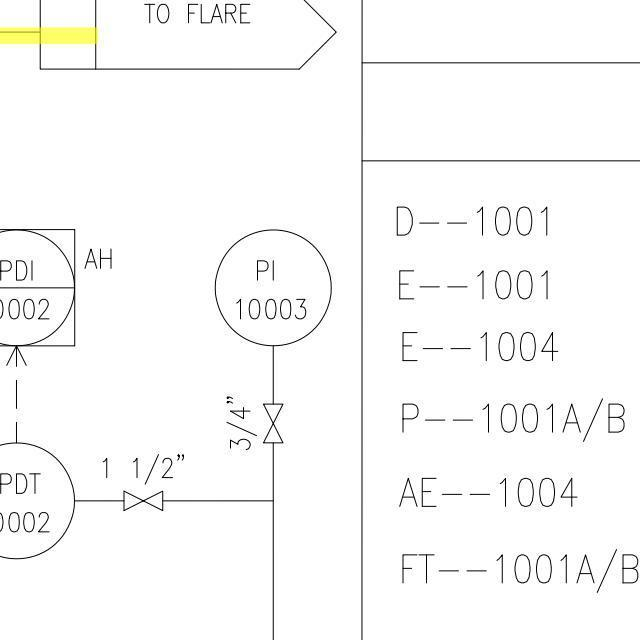GV: (259, 397, 289, 450), (120, 490, 167, 512)
